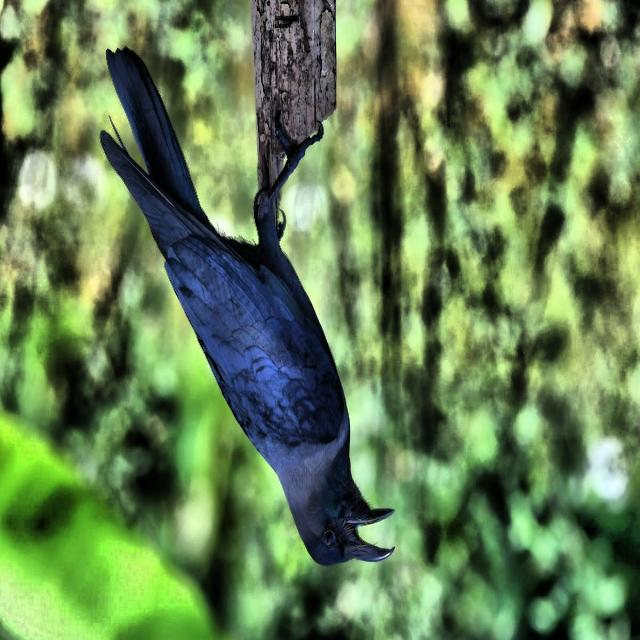crow: (83, 1, 413, 592)
